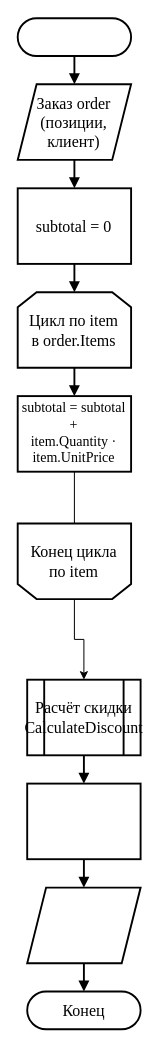
Image size: 161x1047. Some labels were removed from this diagram. Each missing label, with the centre of its shape:
total (итоговая сумма): (83,925)
total = subtotal − discount: (83,821)
Начало: (74,36)
